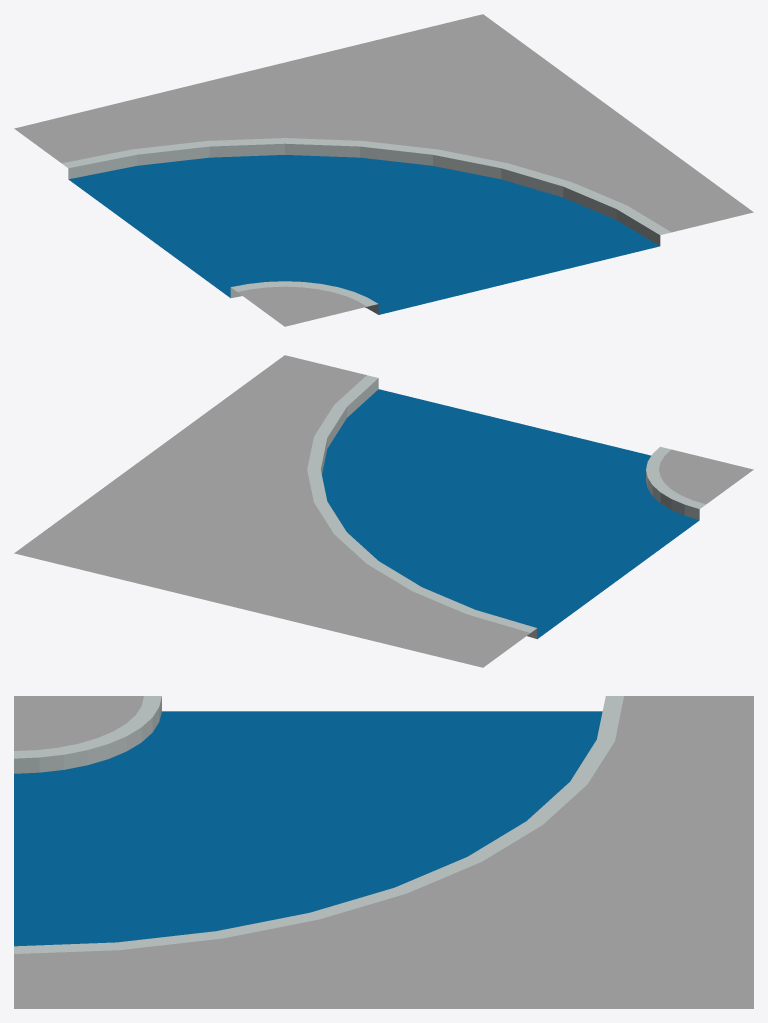
The model's file is Road_Turn_Wide.fbx.
The picture shows the model from 3 angles, top to bottom: view 1: azimuth 30°, elevation 25°; view 2: azimuth 150°, elevation 25°; view 3: azimuth 270°, elevation 25°; orthographic projection. The views are drawn at different scales.
Visible parts, largest first — view 1: Road_Turn_Wide; view 2: Road_Turn_Wide; view 3: Road_Turn_Wide.
Boxes of the visible parts, bbox=[...] form: Road_Turn_Wide: bbox=[14, 14, 753, 326]; Road_Turn_Wide: bbox=[14, 355, 753, 667]; Road_Turn_Wide: bbox=[14, 696, 753, 1008].
Size of the model in its own units: 1000 by 22.59 by 1000.
